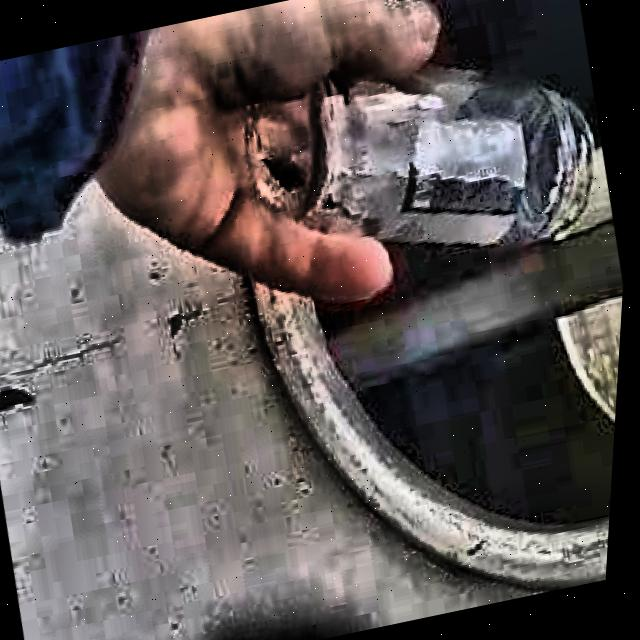glass: (247, 67, 596, 242)
